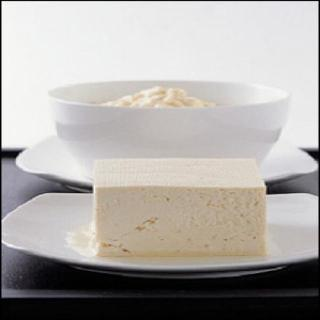Tahu: (83, 155, 285, 263)
